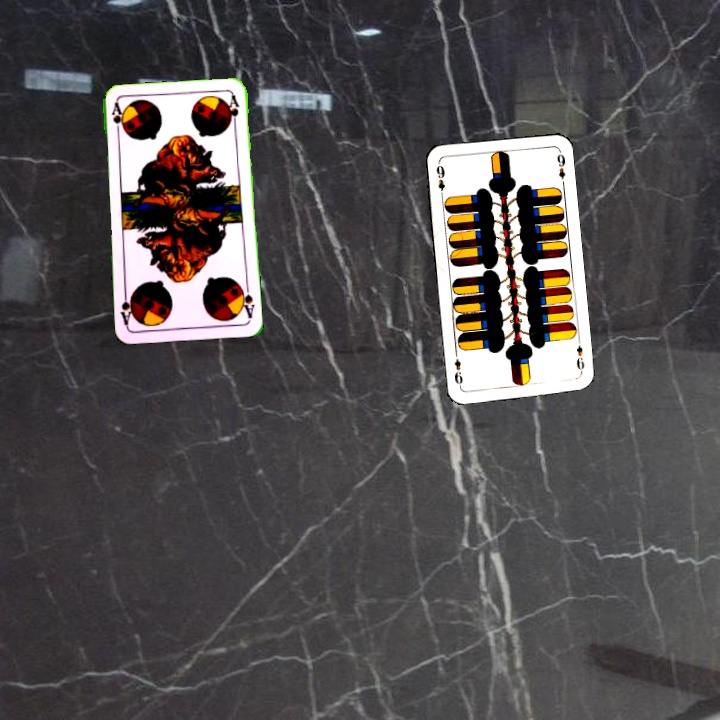E9: (432, 160, 448, 200), (572, 336, 587, 376)
SA: (236, 280, 257, 321), (107, 99, 125, 140)
